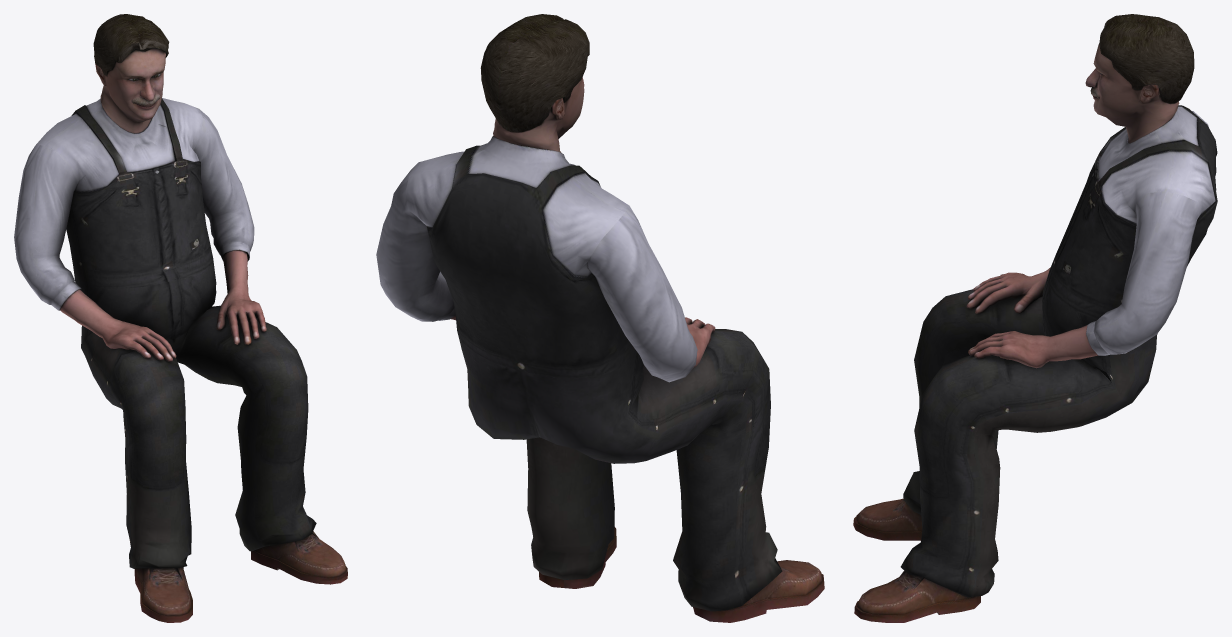
The model's file is SWRK01_04_02.FBX.
3 views of the same model, side by side, from view 1: azimuth 30°, elevation 25°; view 2: azimuth 150°, elevation 25°; view 3: azimuth 270°, elevation 25° (orthographic). The views are drawn at different scales.
Parts seen in each view (by area): view 1: SWRK01_04_02; view 2: SWRK01_04_02; view 3: SWRK01_04_02.
Boxes of the visible parts, bbox=[...] form: SWRK01_04_02: bbox=[14, 14, 347, 622]; SWRK01_04_02: bbox=[376, 14, 824, 622]; SWRK01_04_02: bbox=[853, 14, 1217, 622].
Bounding box in the file's own units: 27.25 × 55.74 × 33.48.
1 material, 1 textured.
